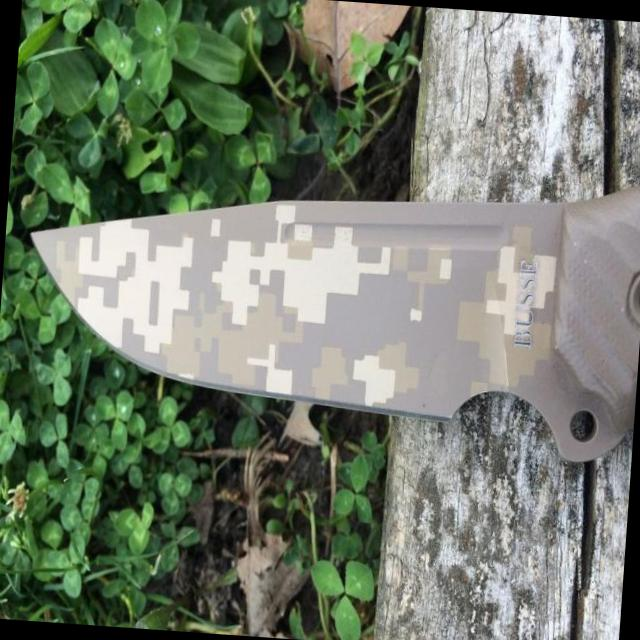Knife: (33, 188, 640, 461)
